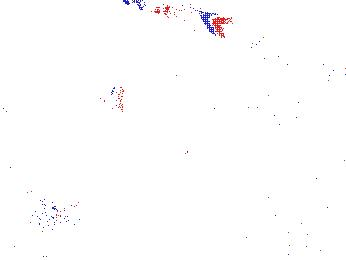X-ray fish: (91, 75, 125, 117)
glassfish: (156, 135, 266, 191)
red belly glassfish: (323, 60, 346, 83)
redtail glassfish: (122, 1, 232, 41), (245, 105, 304, 130)
